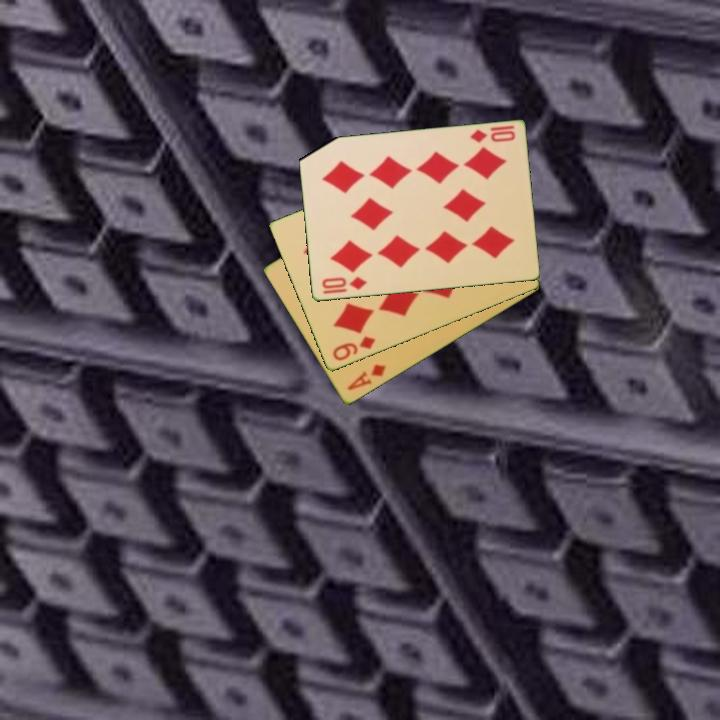10d: (318, 273, 370, 293), (466, 126, 518, 146)
9d: (329, 333, 378, 364)
Ad: (343, 361, 389, 394)
